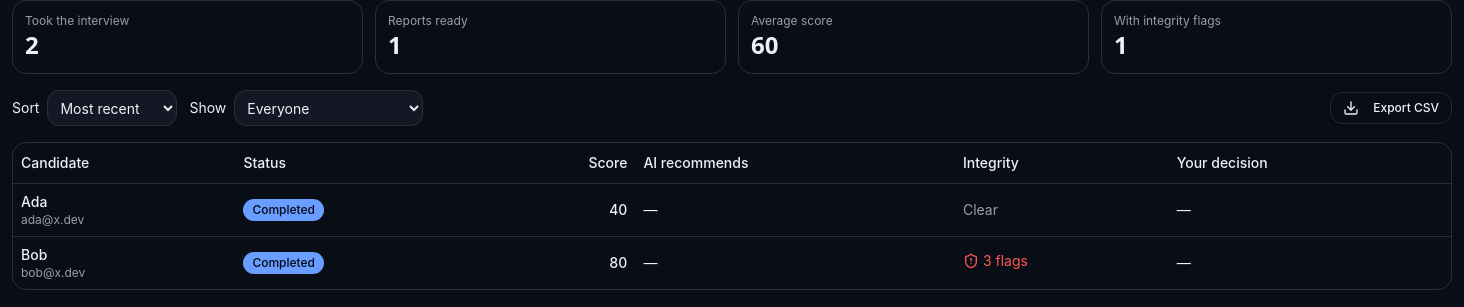
Test case: results panel › sorts by score and filters to flagged candidates
Expected: the button "Ada" is shown, [21,192,47,212]
Select "Highest score" in the dropdown named "Sort results" at [112, 108], box [48,90,178,126]
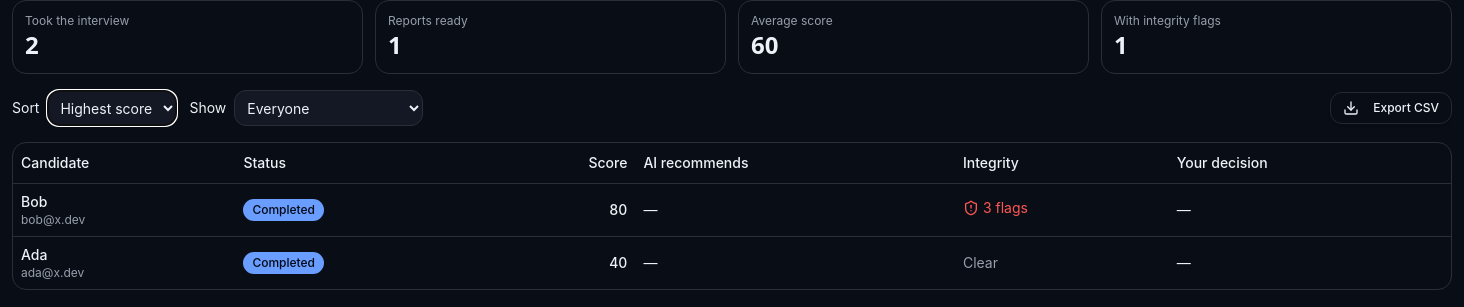
Select "With integrity flags" in the dropdown named "Filter results" at [329, 108], box [234,90,423,126]
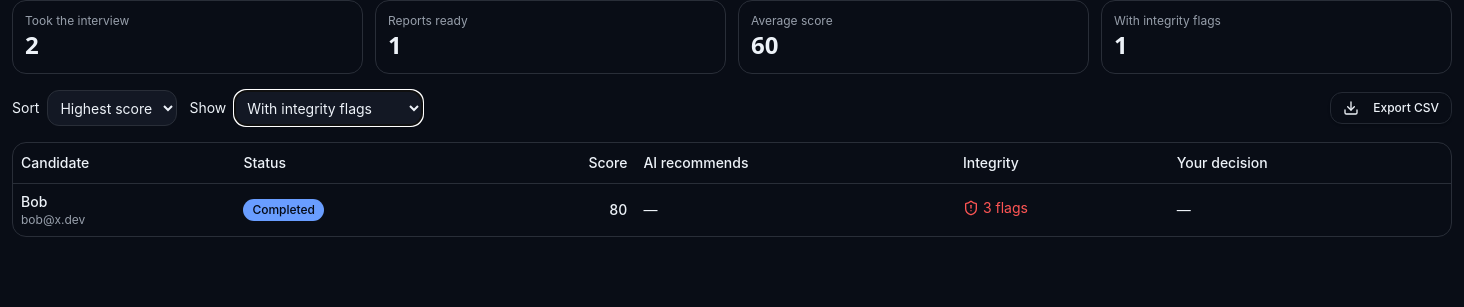
Select "No report (incomplete)" in the dropdown named "Filter results" at [329, 108], box [234,90,423,126]
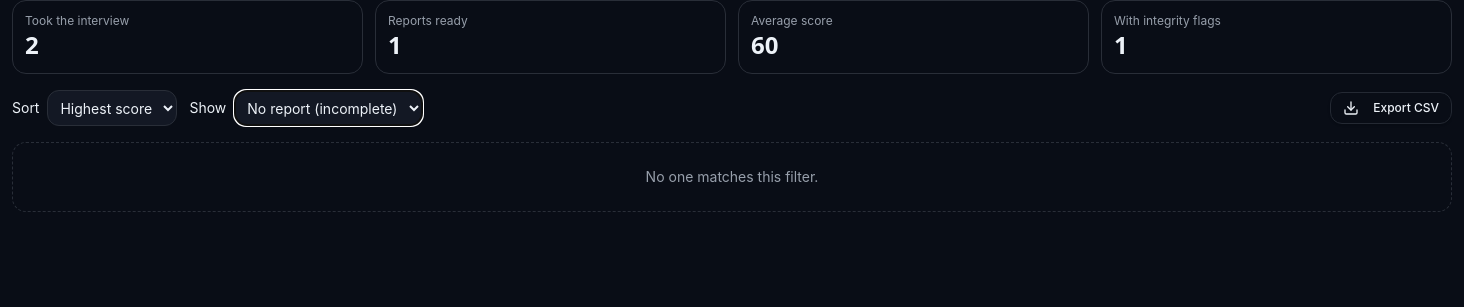
Expected: the text "No one matches this filter." is shown, [12,142,1452,212]
